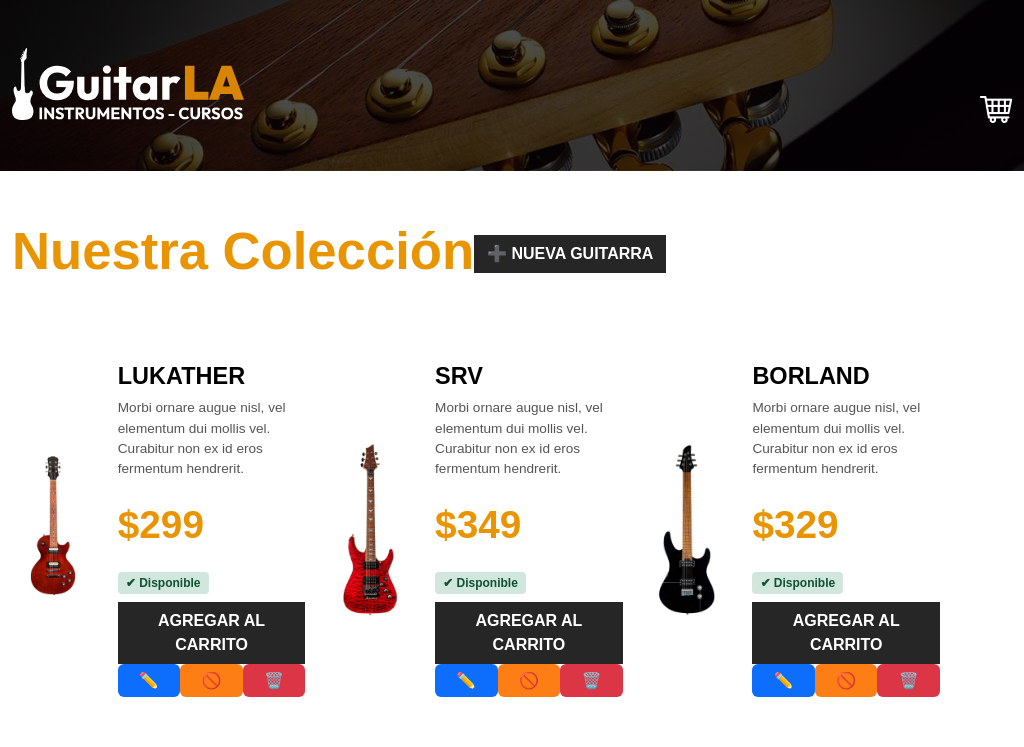
Scenario: Modal de guitarra (crear/editar) › deberia abrir el modal de edición al hacer clic en "✏️"
Expected: the heading "Lukather" is shown, [118,363,245,389]
Click the button titled "Editar guitarra" below "299" at x=149, y=681, box [118,664,180,697]
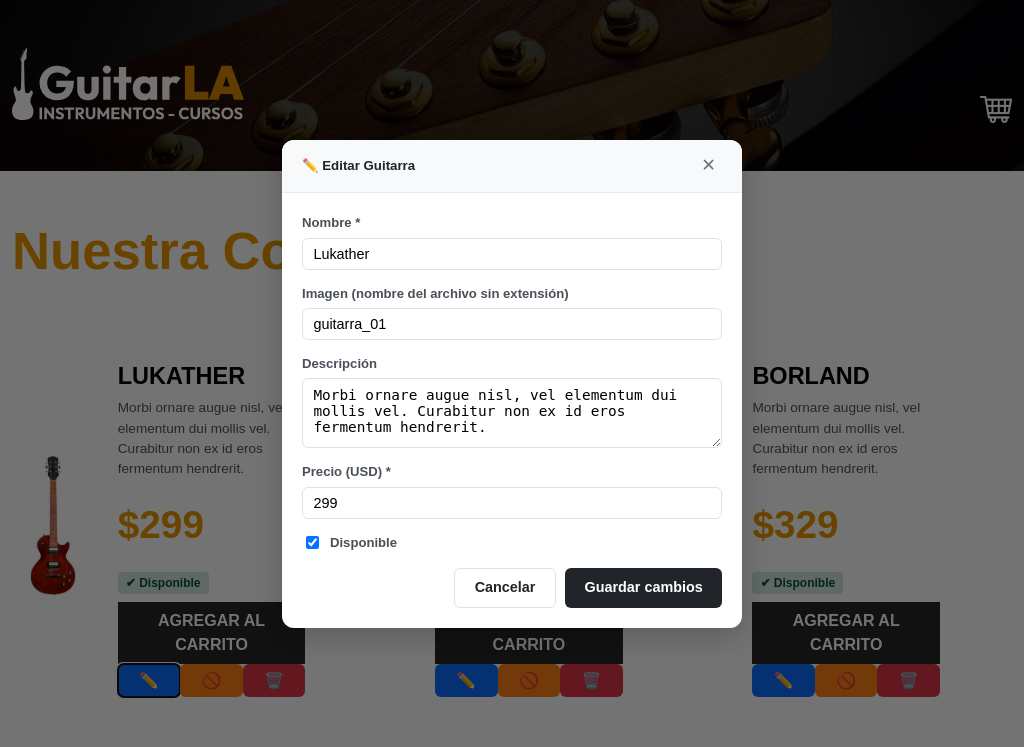
Now the button "Guardar cambios" is shown, box [565,568,722,608]
Now the field with placeholder "Ej. Lukather" below "Nombre *" holds "Lukather", box [302,238,722,270]
